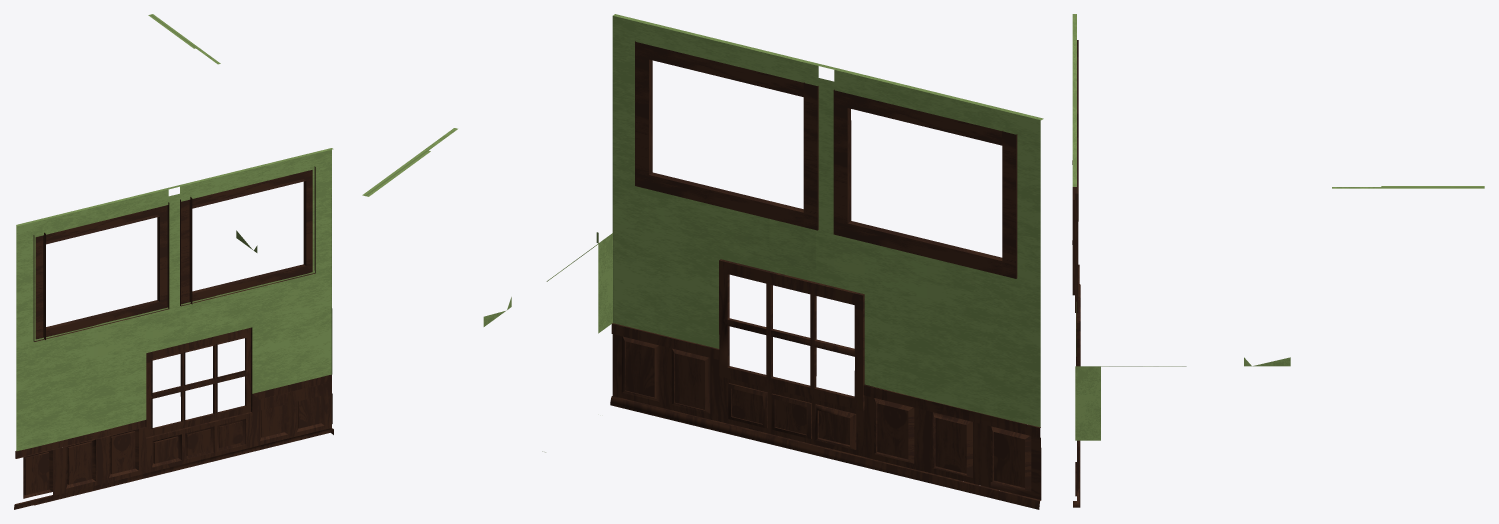
File: mdl_hub_hubpicturewindows.gltf
3 views of the same model, side by side, from view 1: azimuth 30°, elevation 25°; view 2: azimuth 150°, elevation 25°; view 3: azimuth 270°, elevation 25° (orthographic). The views are drawn at different scales.
Parts seen in each view (by area): view 1: Wall Textures Bake.001; view 2: Wall Textures Bake.001; view 3: Wall Textures Bake.001.
Part boxes in pixels (x1=…): Wall Textures Bake.001: x1=14, y1=14, x2=333, y2=509; Wall Textures Bake.001: x1=362, y1=14, x2=1043, y2=509; Wall Textures Bake.001: x1=1072, y1=14, x2=1484, y2=507.
Size of the model in its own units: 12.11 by 10.33 by 12.03.
2 materials, 2 textured.
